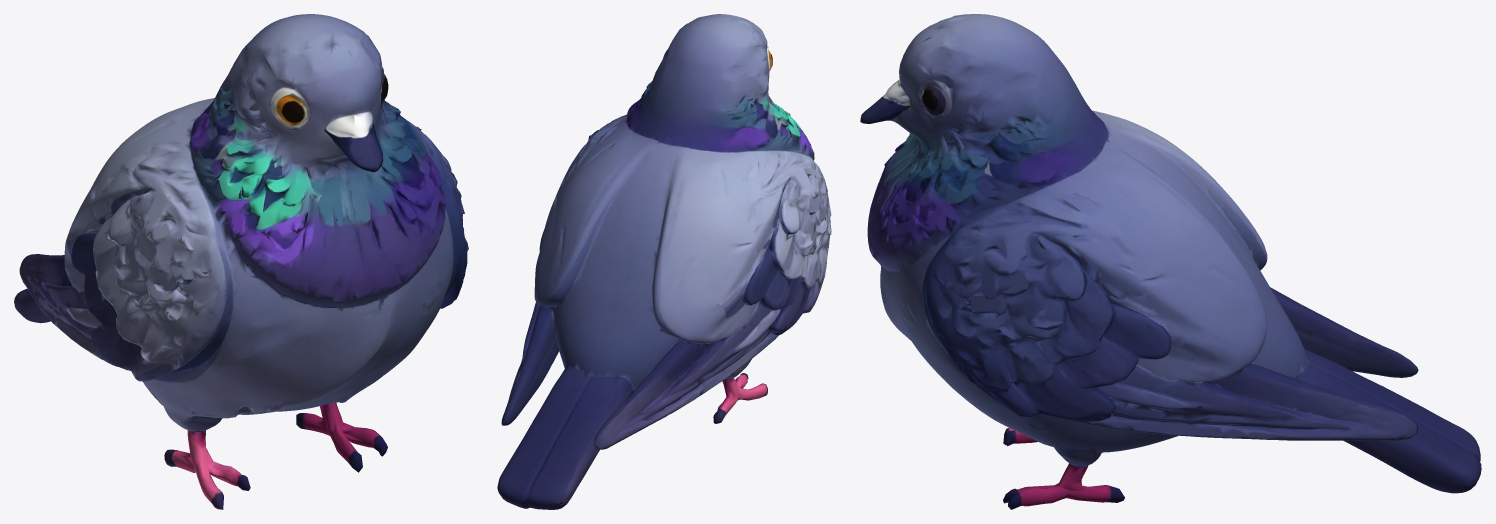
The model's file is pigeon.glb.
3 renders of one model, left to right at view 1: azimuth 30°, elevation 25°; view 2: azimuth 150°, elevation 25°; view 3: azimuth 270°, elevation 25°, orthographic. The views are drawn at different scales.
Parts seen in each view (by area): view 1: tripo_node_0d2a0f2b-d78b-49b1-87f8-25defcd67808; view 2: tripo_node_0d2a0f2b-d78b-49b1-87f8-25defcd67808; view 3: tripo_node_0d2a0f2b-d78b-49b1-87f8-25defcd67808.
Boxes of the visible parts, box(x1,y1,x2,y2) form: tripo_node_0d2a0f2b-d78b-49b1-87f8-25defcd67808: box(14, 14, 468, 509); tripo_node_0d2a0f2b-d78b-49b1-87f8-25defcd67808: box(497, 14, 831, 509); tripo_node_0d2a0f2b-d78b-49b1-87f8-25defcd67808: box(860, 14, 1481, 509).
Bounding box in the file's own units: 0.5613 × 0.7986 × 0.9788.
1 material, 1 textured.
